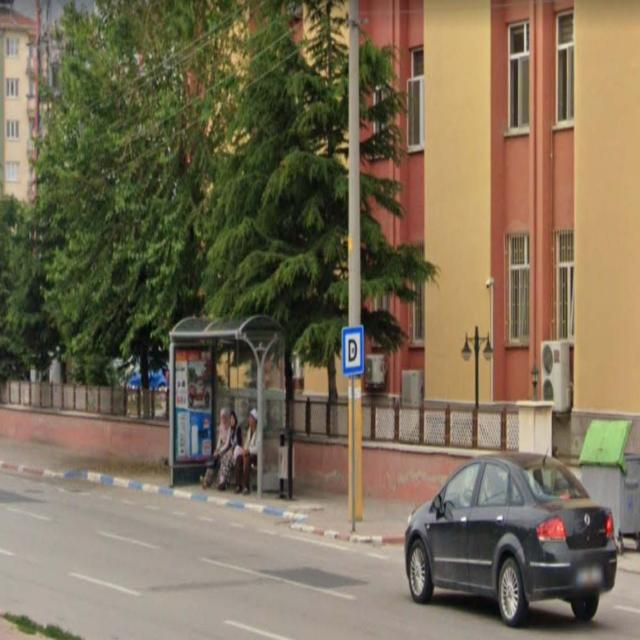durak: (342, 328, 363, 372)
